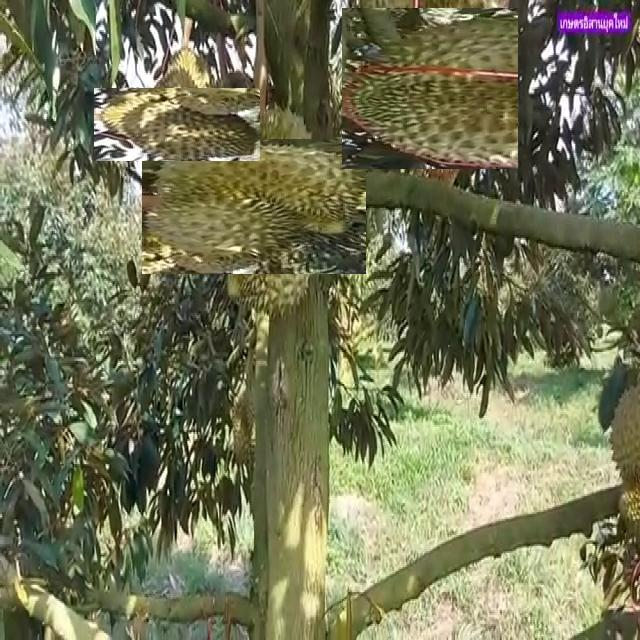durian: (164, 116, 344, 296), (345, 4, 514, 173), (117, 64, 237, 184)
